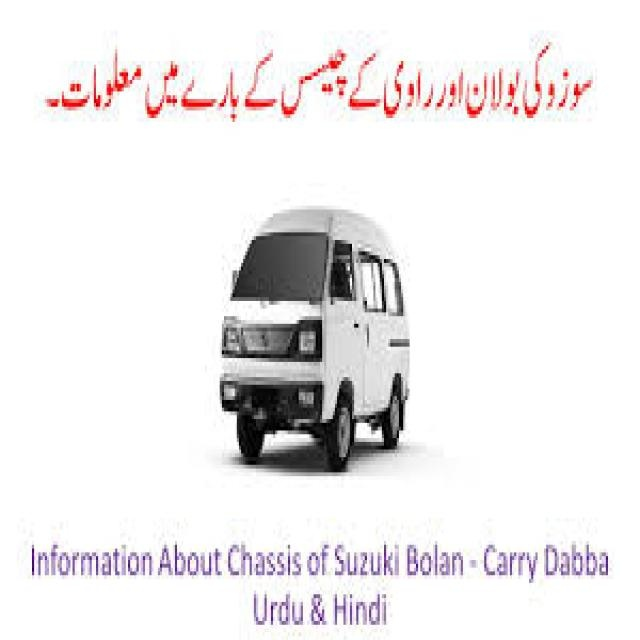Van: (220, 206, 412, 476)
